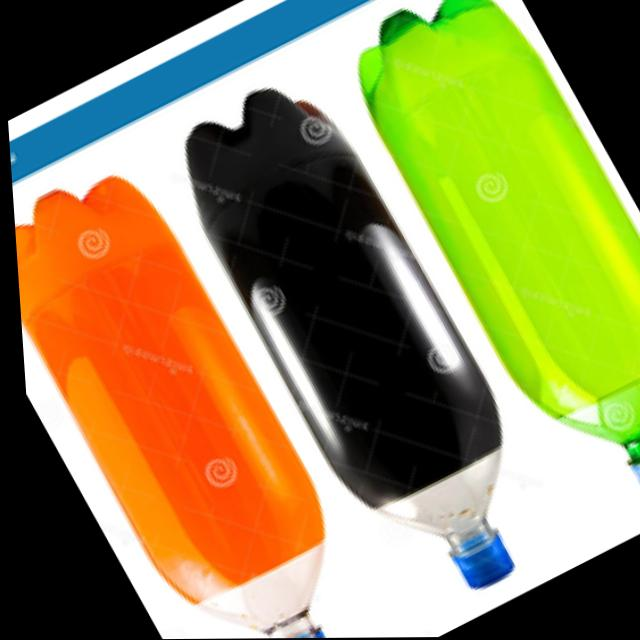plastic_soda_bottles: (147, 64, 574, 623), (8, 156, 386, 640), (323, 0, 640, 536)
